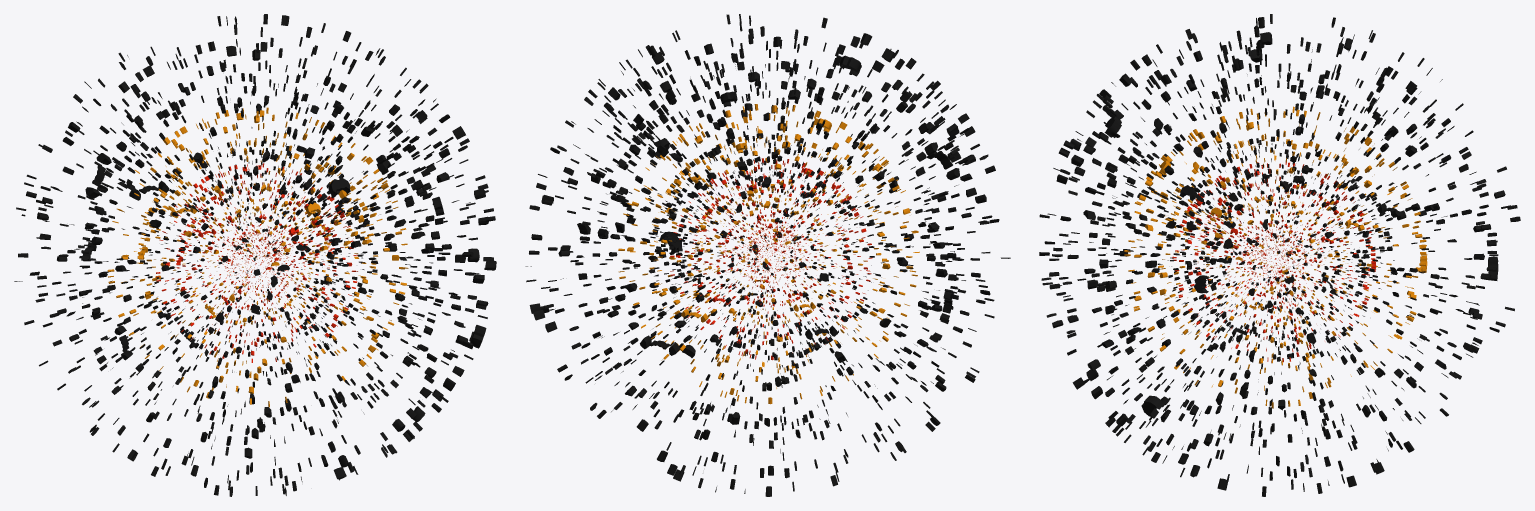
The model's file is bum.gltf.
3 renders of one model, left to right at view 1: azimuth 30°, elevation 25°; view 2: azimuth 150°, elevation 25°; view 3: azimuth 270°, elevation 25°, orthographic.
Parts seen in each view (by area): view 1: Sphere ext 2_0; view 2: Sphere ext 2_0; view 3: Sphere ext 2_0.
Part boxes in pixels (box(x1,y1,x2,y2)): Sphere ext 2_0: box(14, 14, 496, 496); Sphere ext 2_0: box(525, 14, 1010, 496); Sphere ext 2_0: box(1039, 14, 1520, 496).
Bounding box in the file's own units: 7.8 × 7.75 × 7.73.
